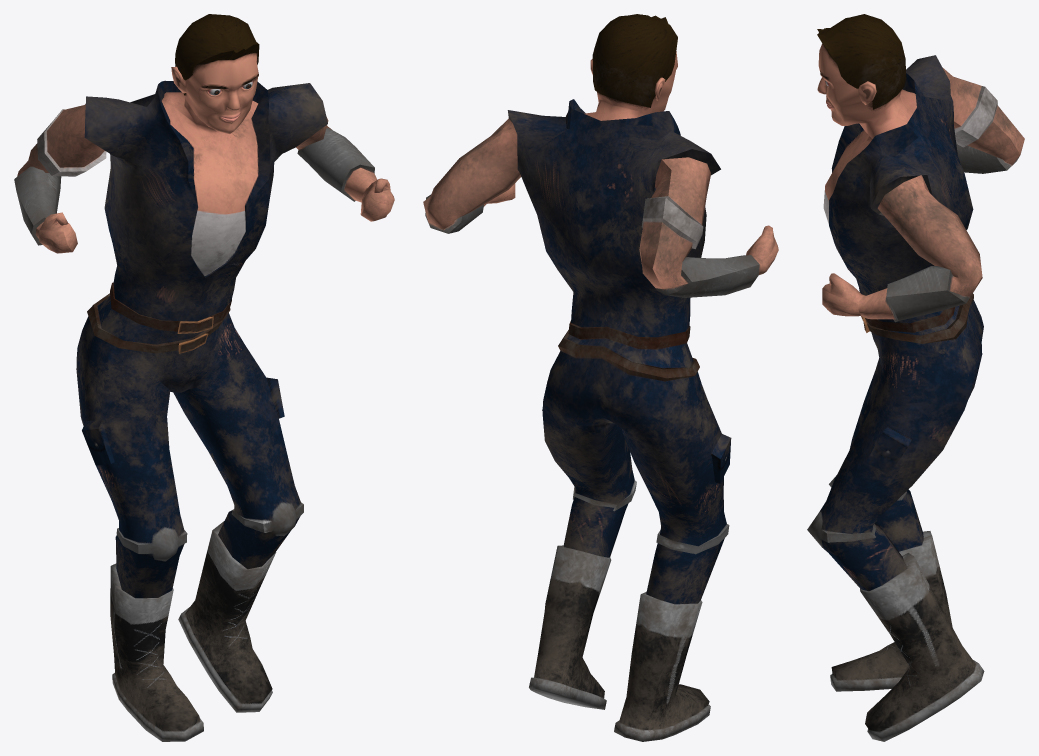
File: Anim_ataque_d3_jugador.0039.obj
The picture shows the model from 3 angles, left to right: view 1: azimuth 30°, elevation 25°; view 2: azimuth 150°, elevation 25°; view 3: azimuth 270°, elevation 25°; orthographic projection.
Visible parts, largest first — view 1: polySurface1; view 2: polySurface1; view 3: polySurface1.
Part boxes in pixels (box(x1,y1,x2,y2)): polySurface1: box(14, 14, 394, 741); polySurface1: box(423, 14, 778, 741); polySurface1: box(807, 14, 1024, 741).
Size of the model in its own units: 4.59 by 9.41 by 2.66.
